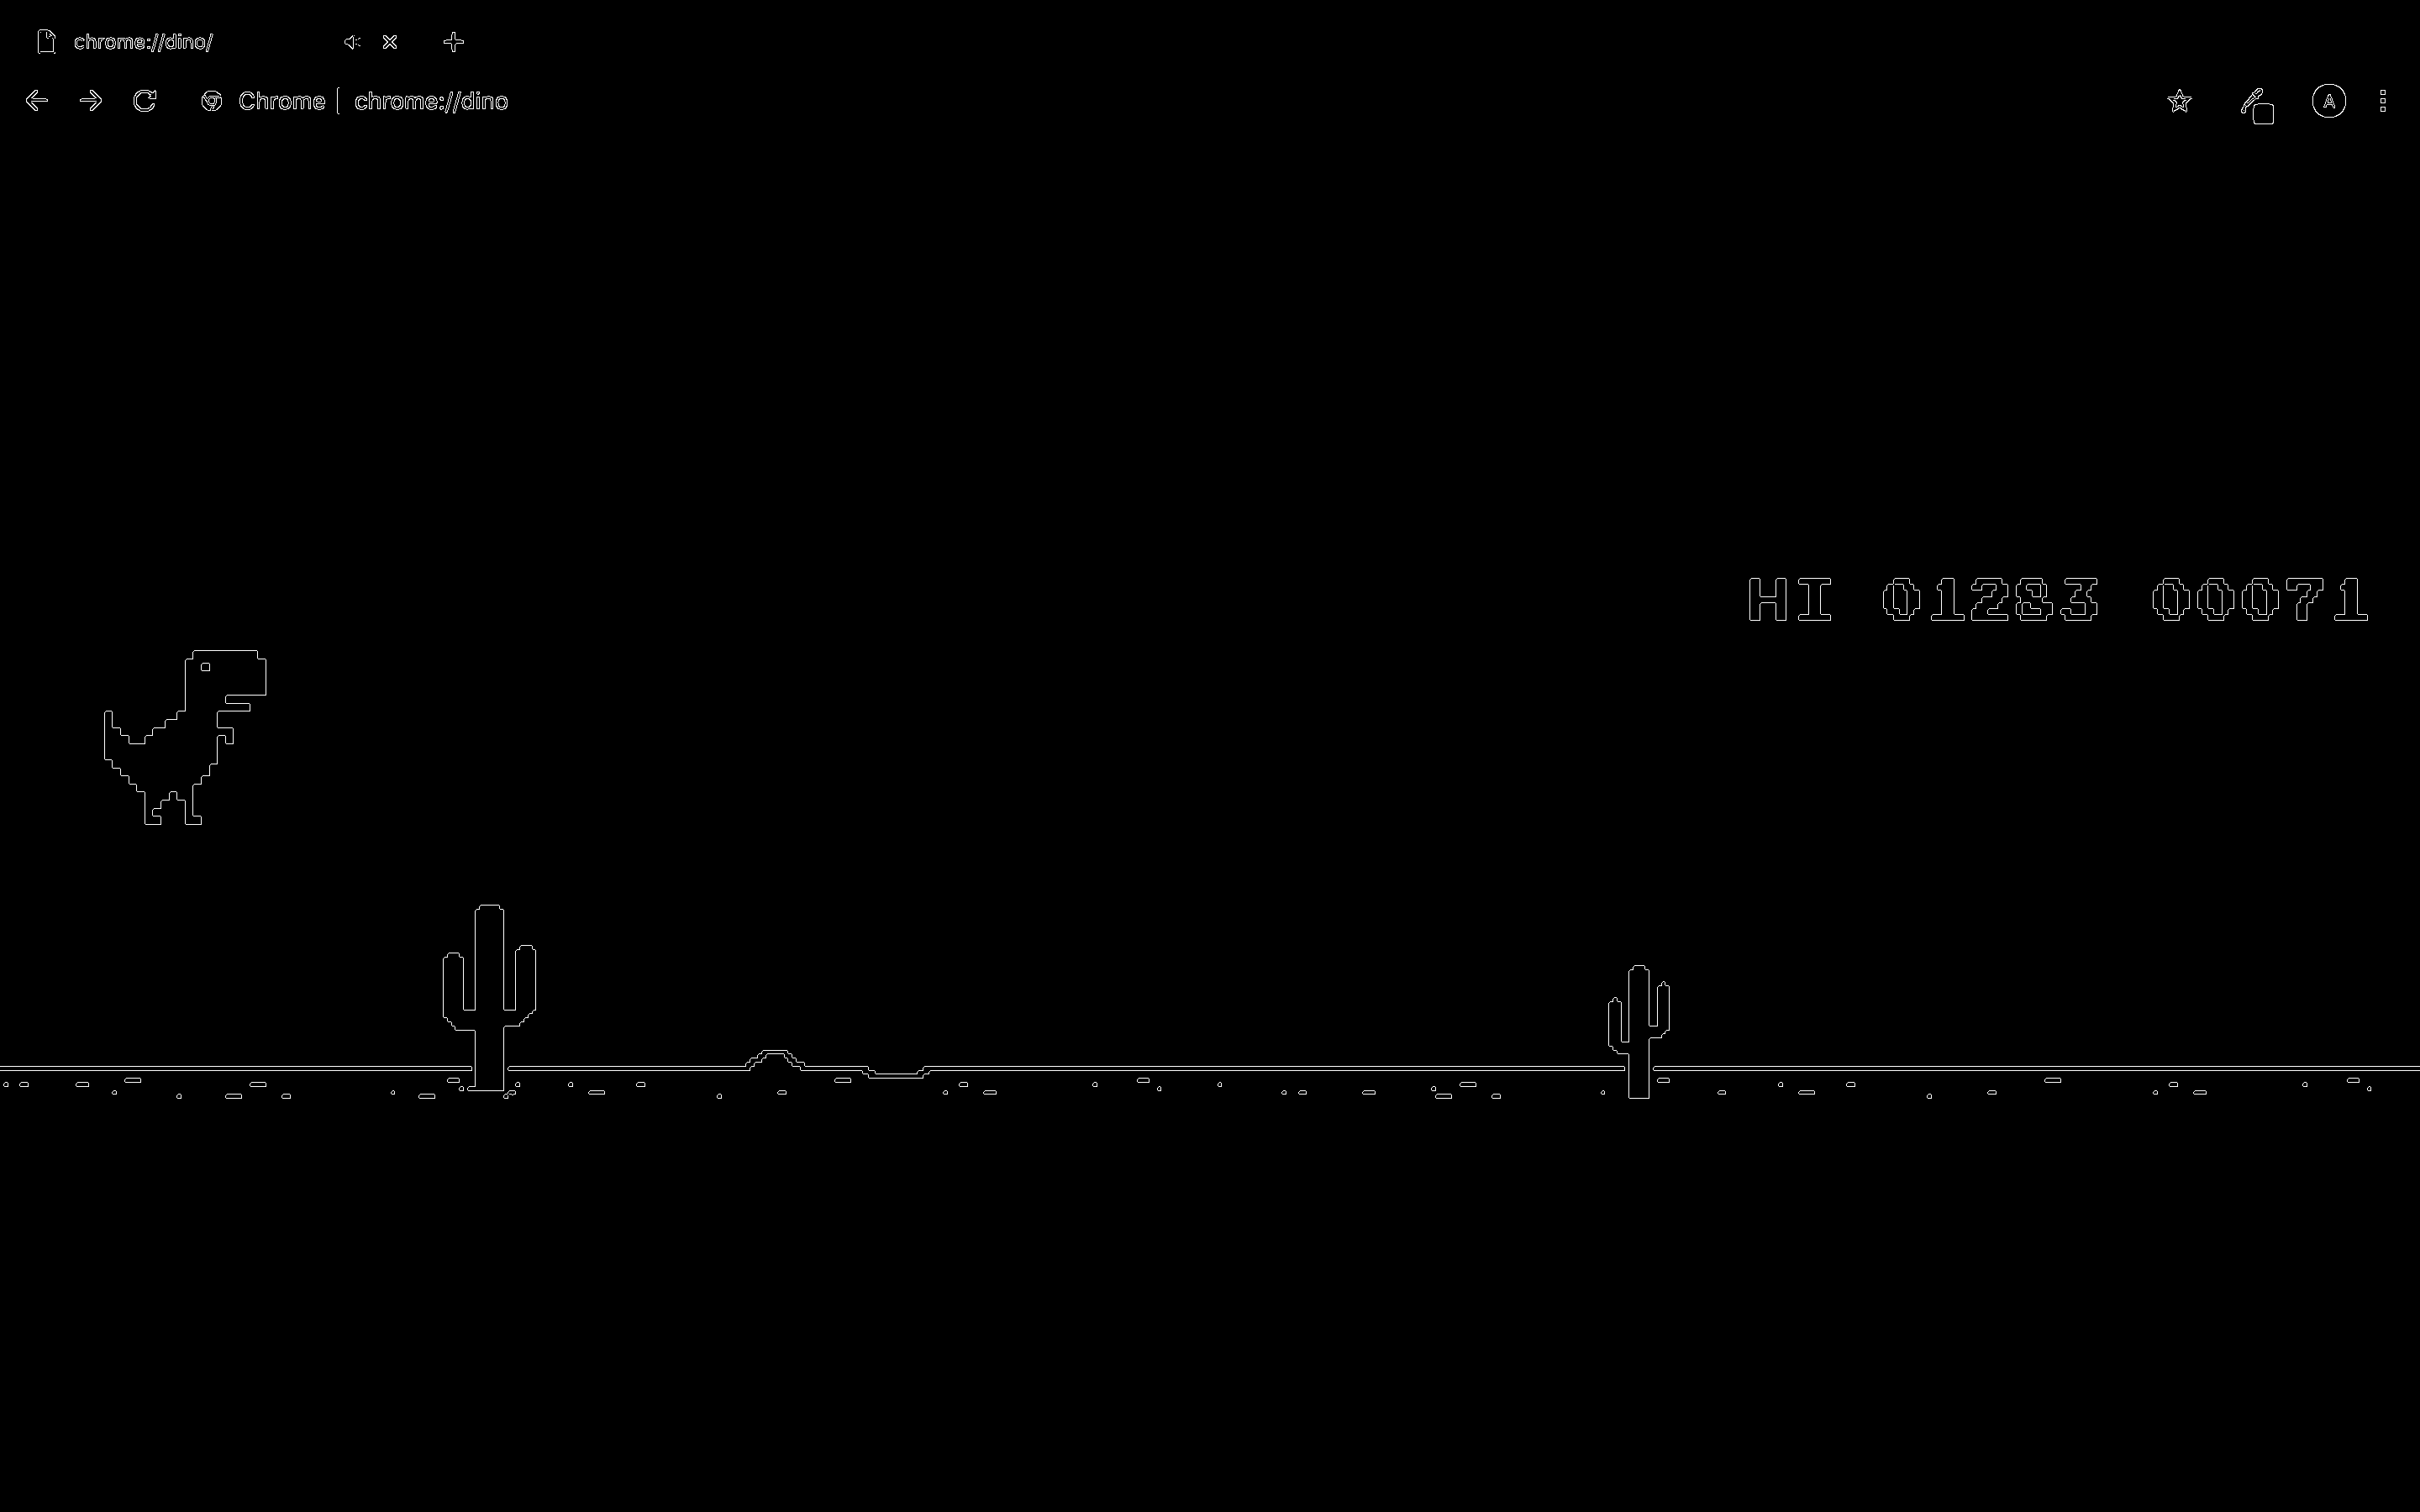Cactus: (427, 906, 547, 1090), (1598, 972, 1688, 1101)
Dino: (96, 648, 274, 831)
